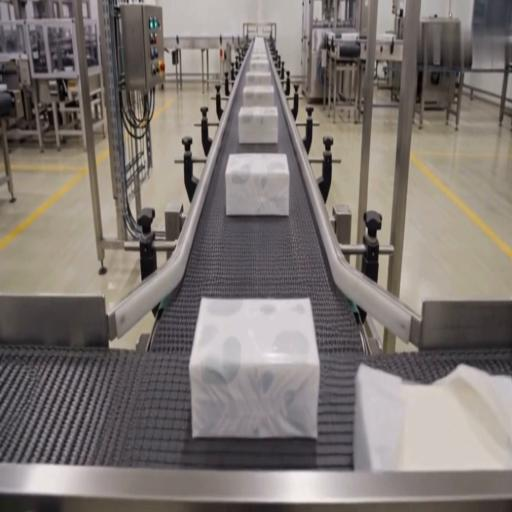defective: (190, 296, 317, 441), (353, 360, 509, 474)
good: (224, 152, 290, 217), (237, 105, 279, 146), (242, 84, 275, 108), (244, 69, 272, 86), (246, 56, 271, 74), (249, 37, 270, 56)
